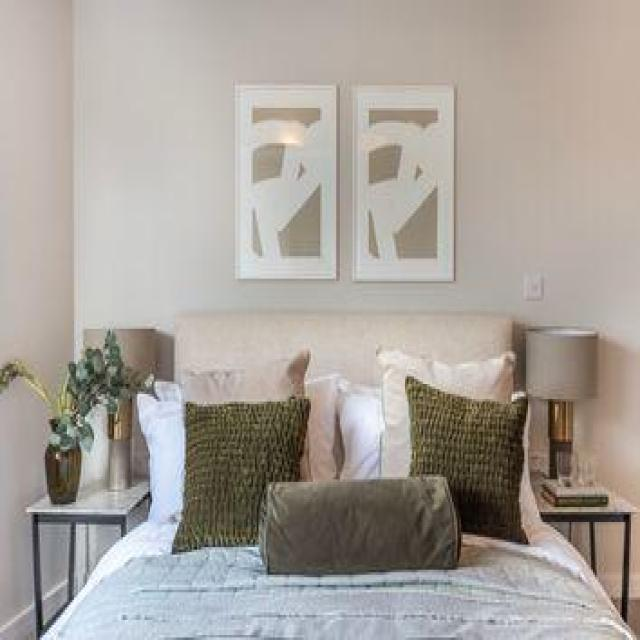Wall: (0, 0, 572, 381), (75, 2, 640, 327), (575, 321, 640, 636), (0, 382, 46, 627), (597, 528, 620, 600), (33, 349, 71, 381), (341, 90, 350, 221), (45, 534, 65, 589)
